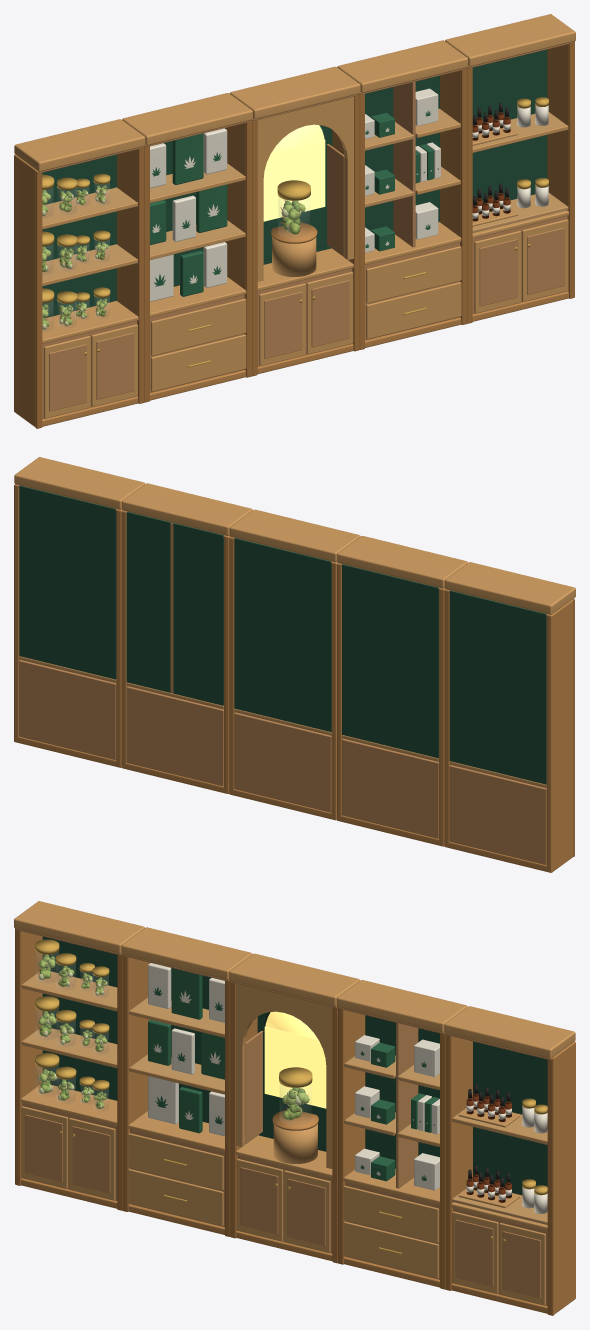
Rendered from product_shelving.glb.
3 renders of one model, top to bottom at view 1: azimuth 30°, elevation 25°; view 2: azimuth 150°, elevation 25°; view 3: azimuth 330°, elevation 25°, orthographic.
Parts seen in each view (by area): view 1: Back4, Side0-2.51, NicheFrame, Back0, Crown0, Crown3, Crown2, Crown1, Crown4, Bay1Drawer0, Bay1Drawer1, NicheWash (+69 smaller); view 2: Back0, Back2, Back4, Back1, Back3, BaseBody2, BaseBody3, BaseBody4, BaseBody0, BaseBody1, Side0-2.51, Crown0 (+19 smaller); view 3: Back4, Side42.46, NicheFrame, Back0, Crown4, Crown1, Crown2, Crown3, Crown0, Bay3Drawer0, Bay3Drawer1, NicheWash (+71 smaller).
Boxes of the visible parts, x1,y1,x2,y2 form: Back4: [472, 49, 547, 205]; Side0-2.51: [14, 154, 36, 427]; NicheFrame: [257, 96, 353, 281]; Back0: [42, 154, 116, 317]; Crown0: [14, 119, 145, 171]; Crown3: [337, 40, 468, 92]; Crown2: [229, 66, 360, 119]; Crown1: [122, 93, 252, 145]; Crown4: [445, 14, 575, 66]; Bay1Drawer0: [151, 334, 246, 391]; Bay1Drawer1: [151, 298, 246, 355]; NicheWash: [263, 139, 325, 221]; Back0: [449, 590, 546, 784]; Back2: [234, 538, 331, 731]; Back4: [19, 485, 116, 679]; Back1: [342, 564, 438, 758]; Back3: [126, 512, 223, 705]; BaseBody2: [234, 712, 331, 812]; BaseBody3: [126, 686, 223, 786]; BaseBody4: [19, 660, 116, 759]; BaseBody0: [449, 765, 546, 864]; BaseBody1: [342, 738, 438, 838]; Side0-2.51: [546, 600, 573, 872]; Crown0: [445, 562, 575, 614]; Back4: [473, 1041, 547, 1195]; Side42.46: [553, 1041, 575, 1314]; NicheFrame: [236, 983, 332, 1168]; Back0: [42, 936, 117, 1100]; Crown4: [444, 1006, 575, 1058]; Crown1: [121, 927, 252, 979]; Crown2: [229, 953, 360, 1006]; Crown3: [337, 980, 467, 1032]; Crown0: [14, 901, 144, 953]; Bay3Drawer0: [343, 1221, 438, 1278]; Bay3Drawer1: [343, 1185, 438, 1242]; NicheWash: [264, 1026, 326, 1108].
Bounding box in the file's own units: 5.03 × 2.39 × 0.4087.
